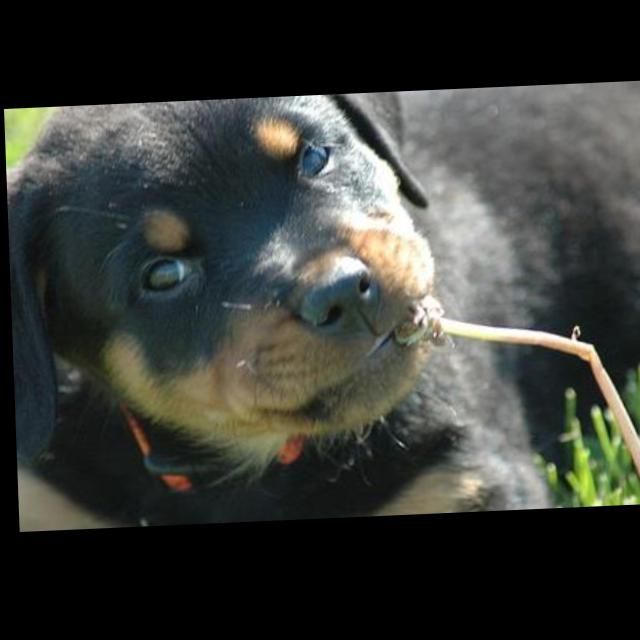rottweiler: (4, 87, 640, 533)
